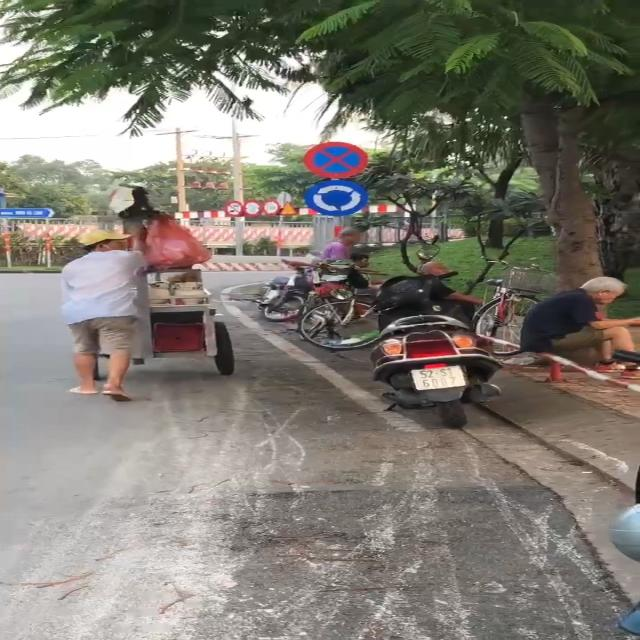Bien bao cam dung xe va do xe: (300, 138, 378, 182)
Bien bao noi giao nhau chay theo vong xuyen: (304, 179, 368, 219)
